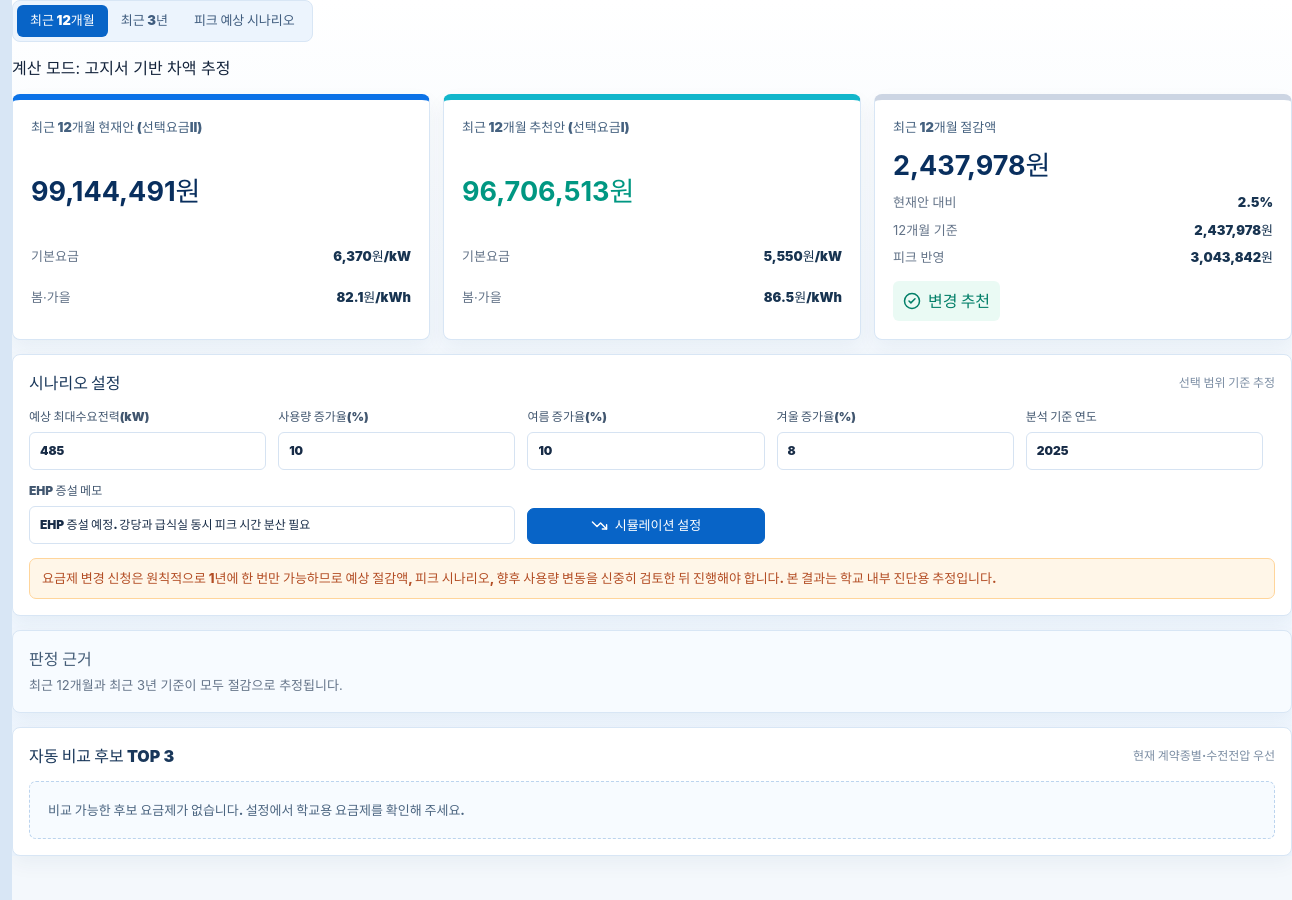
Test case: rate simulator usability harness › shows accessible validation and does not persist invalid 분석 기준 연도
Replace the text in the number field labelled "분석 기준 연도" with "2036" at (1144, 451), box [1026,432,1263,470]
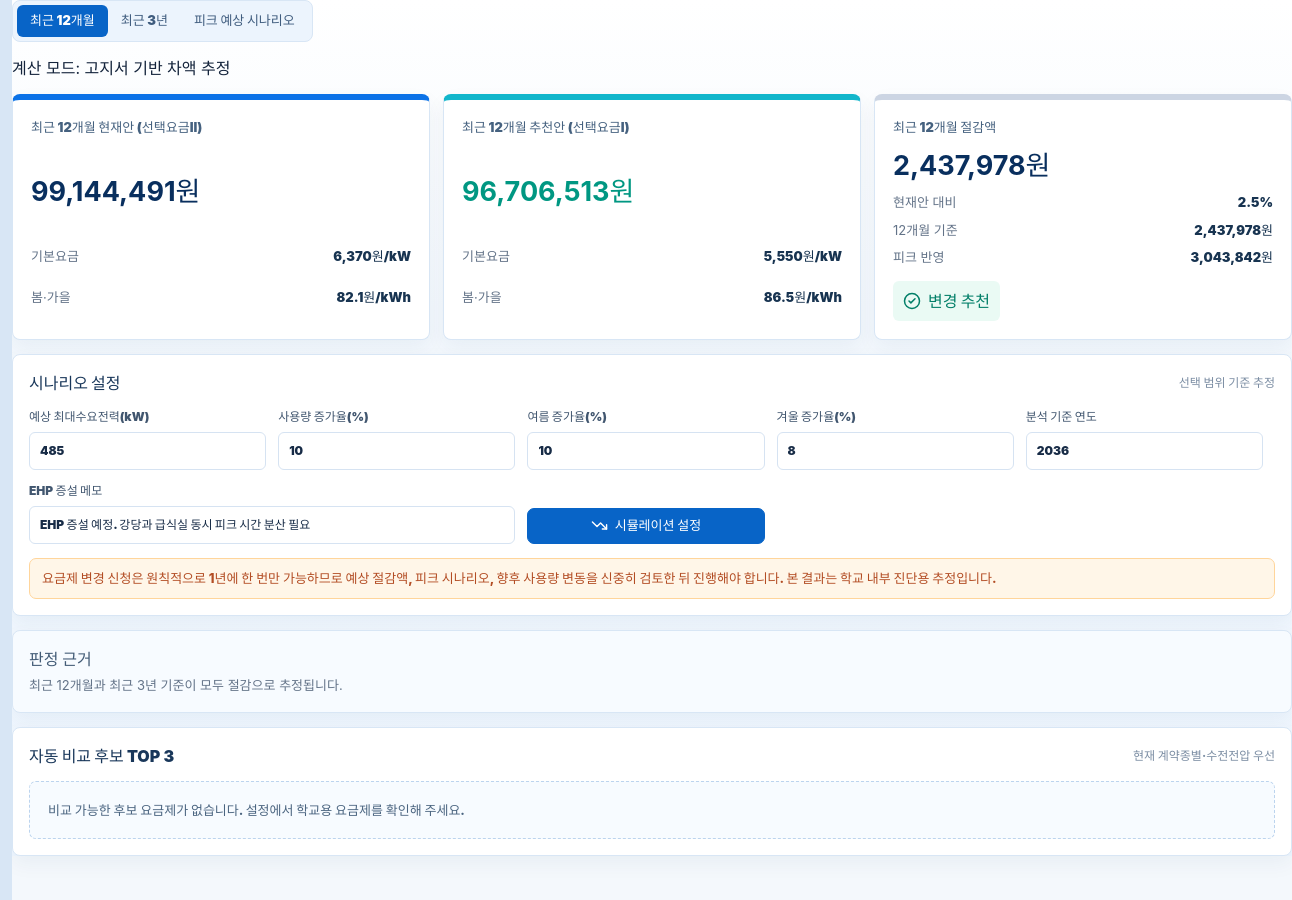
Click the button "시뮬레이션 설정" at (646, 526), box [527,508,765,544]
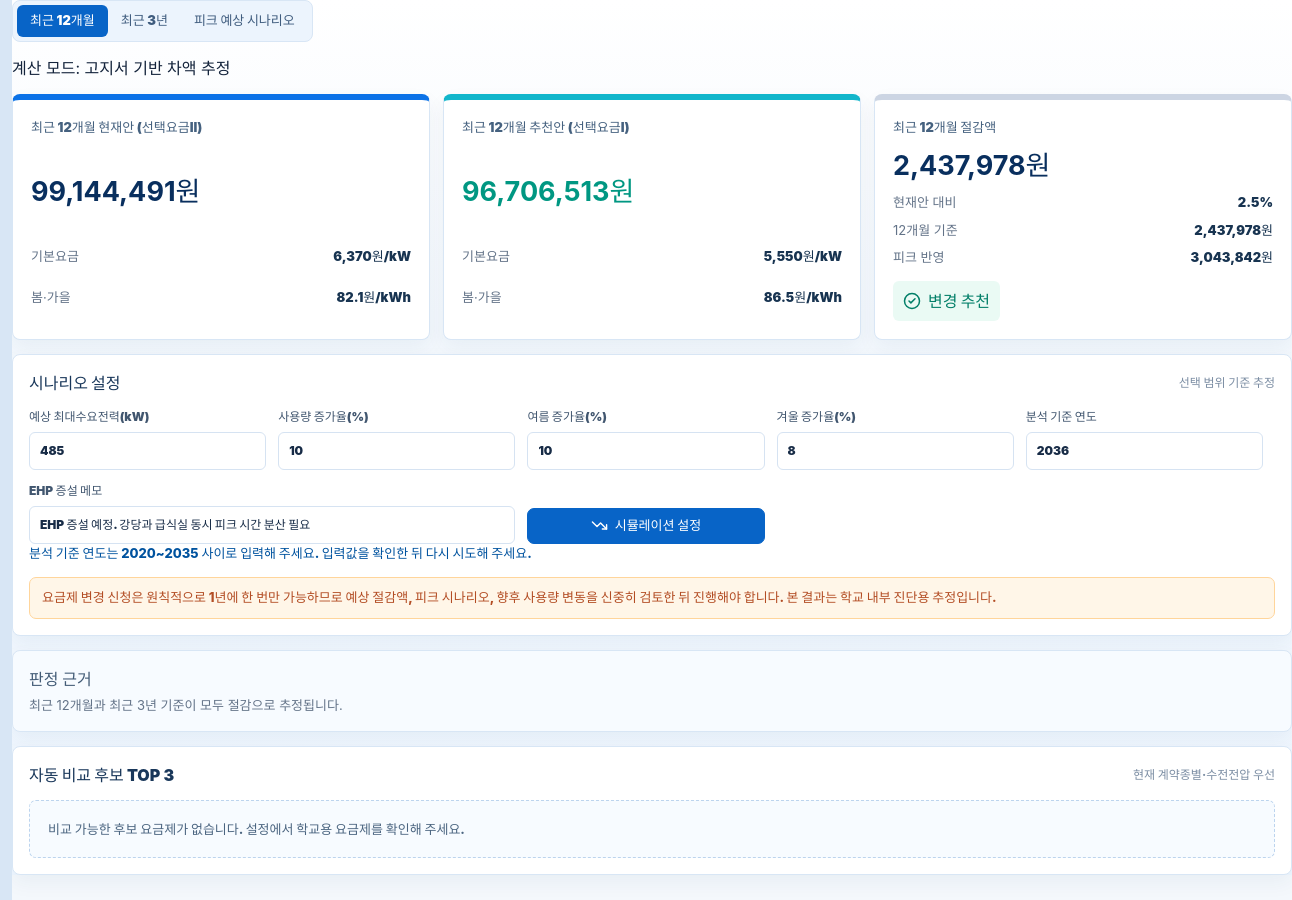
Expected: the message shows "입력", [29,545,532,561]
